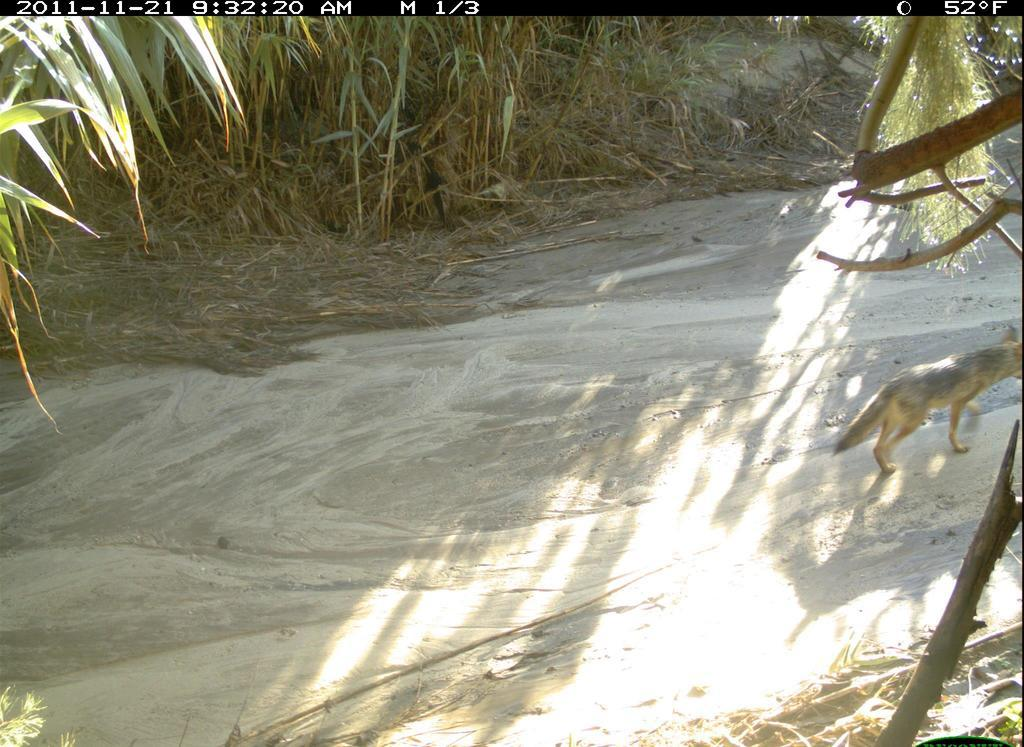coyote: (825, 317, 1024, 487)
